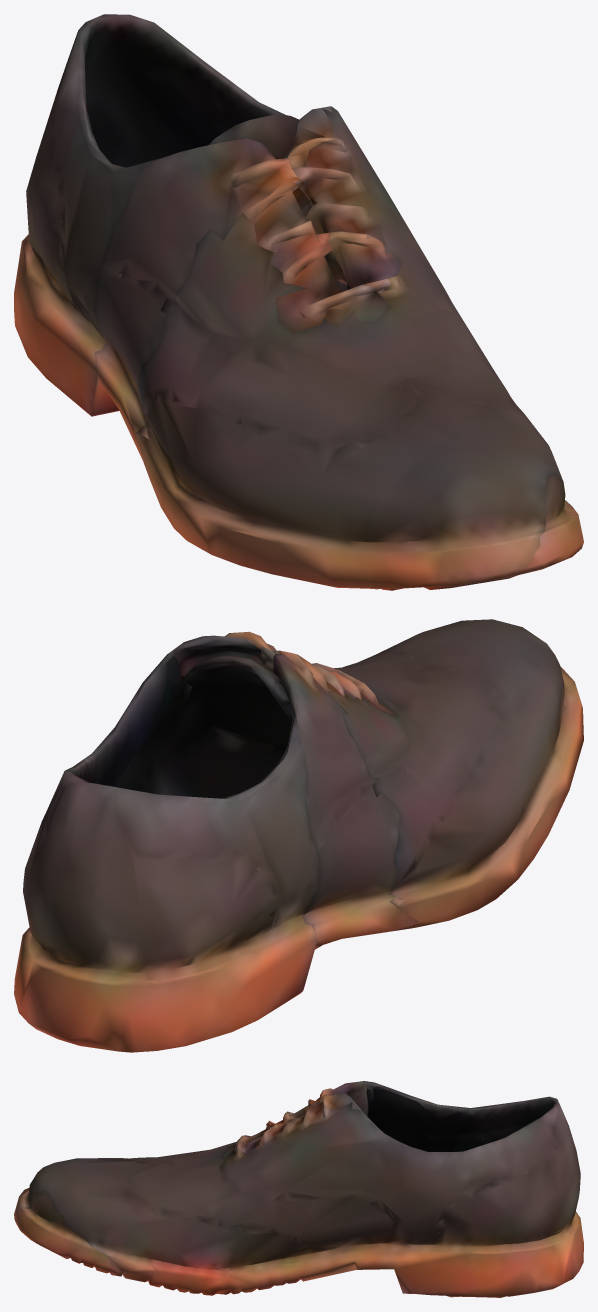
Rendered from Great_Jones_Wingtip-medium.glb.
The picture shows the model from 3 angles, top to bottom: view 1: azimuth 30°, elevation 25°; view 2: azimuth 150°, elevation 25°; view 3: azimuth 270°, elevation 25°; orthographic projection. The views are drawn at different scales.
Parts seen in each view (by area): view 1: Great_Jones_Wingtip; view 2: Great_Jones_Wingtip; view 3: Great_Jones_Wingtip.
Part boxes in pixels (box(x1,y1,x2,y2)): Great_Jones_Wingtip: box(14, 14, 583, 590); Great_Jones_Wingtip: box(14, 619, 583, 1052); Great_Jones_Wingtip: box(14, 1081, 583, 1297).
Bounding box in the file's own units: 0.1105 × 0.1131 × 0.312.
1 material, 1 textured.
